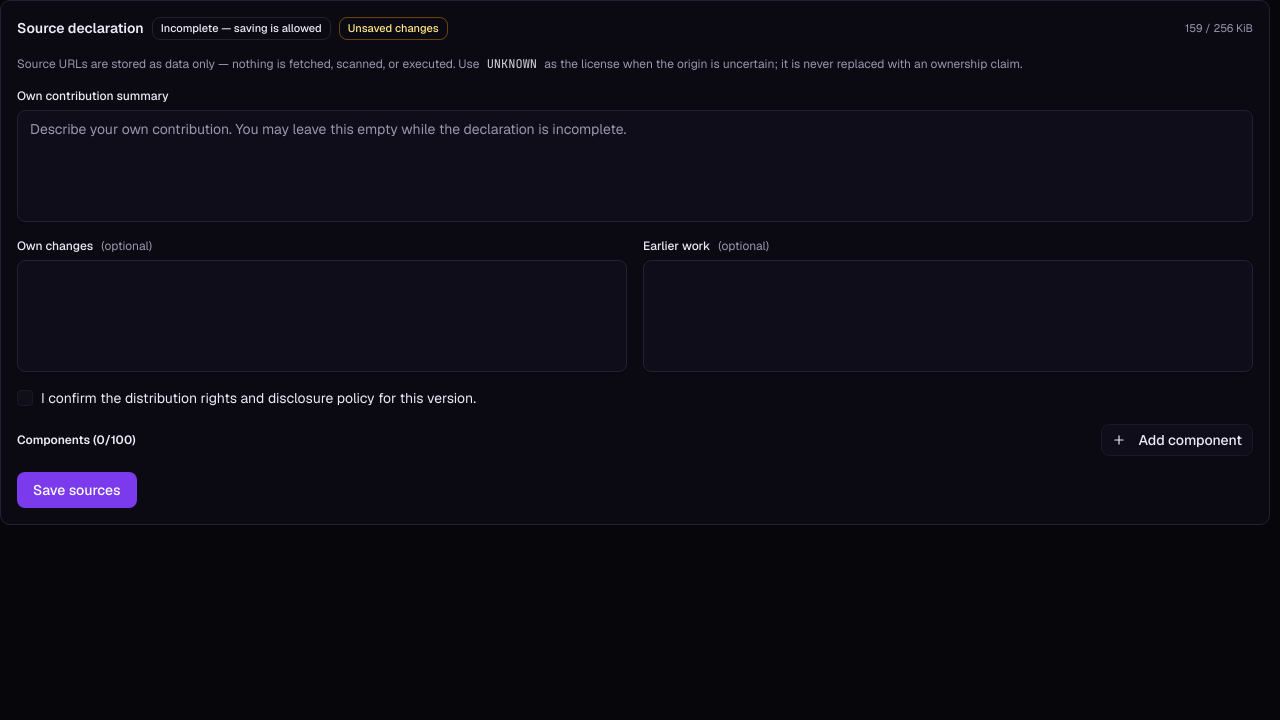
Scenario: SourceDeclarationEditor › keeps entered values when a background refetch advances the server while dirty
The width and height of the screenshot is (1280, 720).
Check: the button "Add component" is shown, box 1101,424 -> 1253,456
Type "Still editing" into the text box labelled "Own contribution summary".
click(635, 166); type("Still editing")  # box 17,110 -> 1253,222
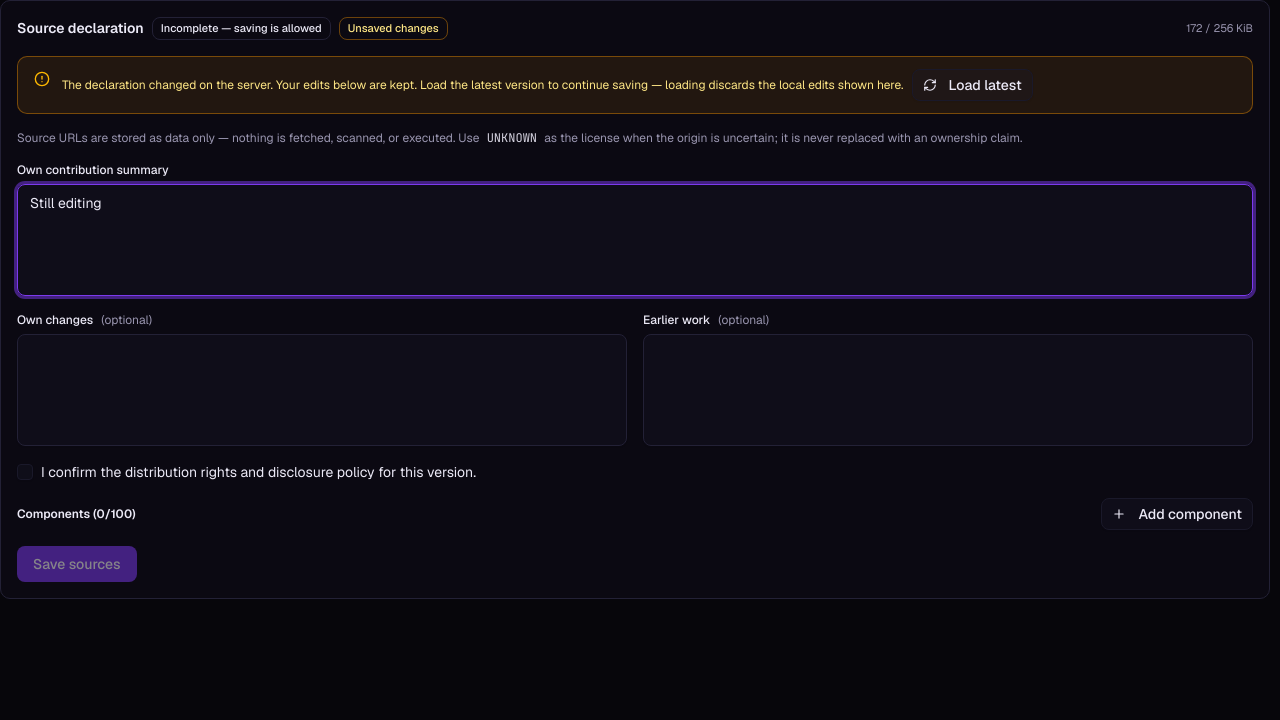
Check: the text "declaration changed on the server" is shown, box 62,76 -> 904,92
